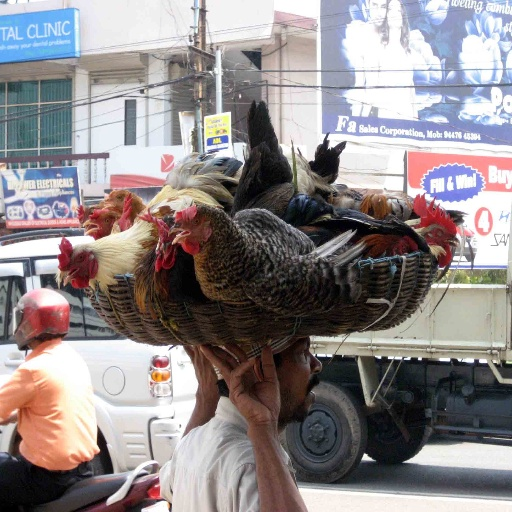hand: (197, 341, 282, 431), (180, 339, 223, 410)
